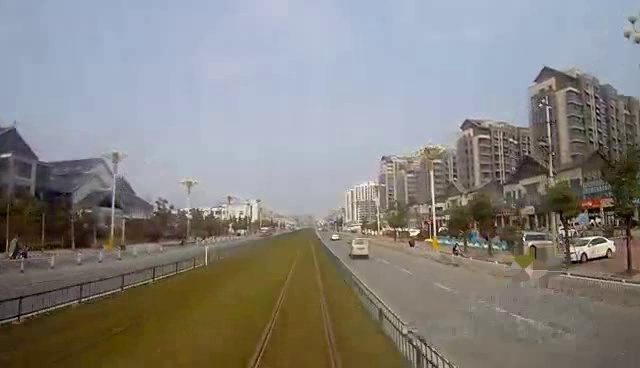car: (344, 233, 377, 260)
